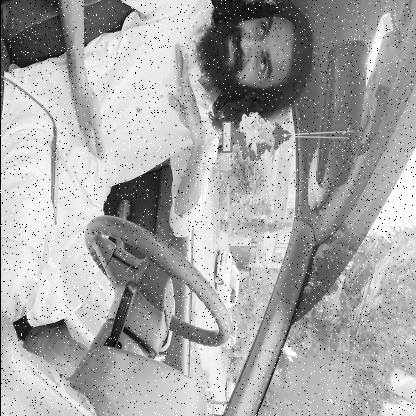no_seatbelt: (87, 11, 312, 157)
